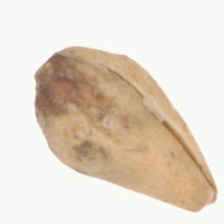L1: (33, 47, 60, 93), (193, 186, 219, 213)
L2: (34, 46, 219, 213)
